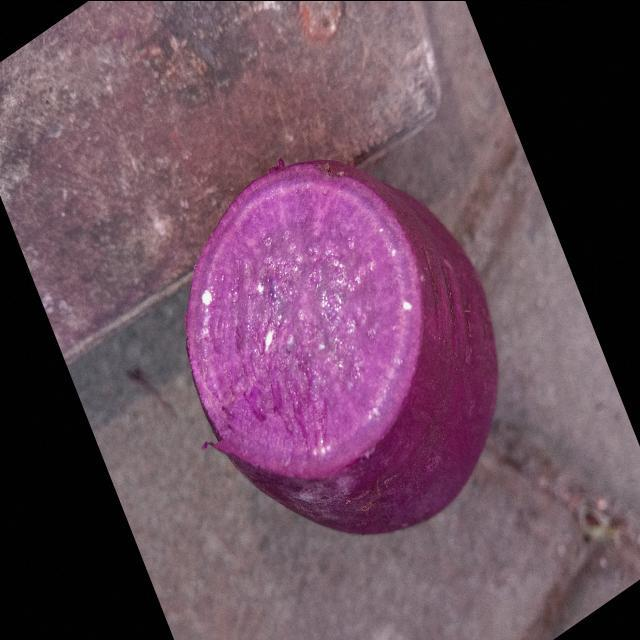Healthy Sweet Potato: (186, 162, 421, 477)
